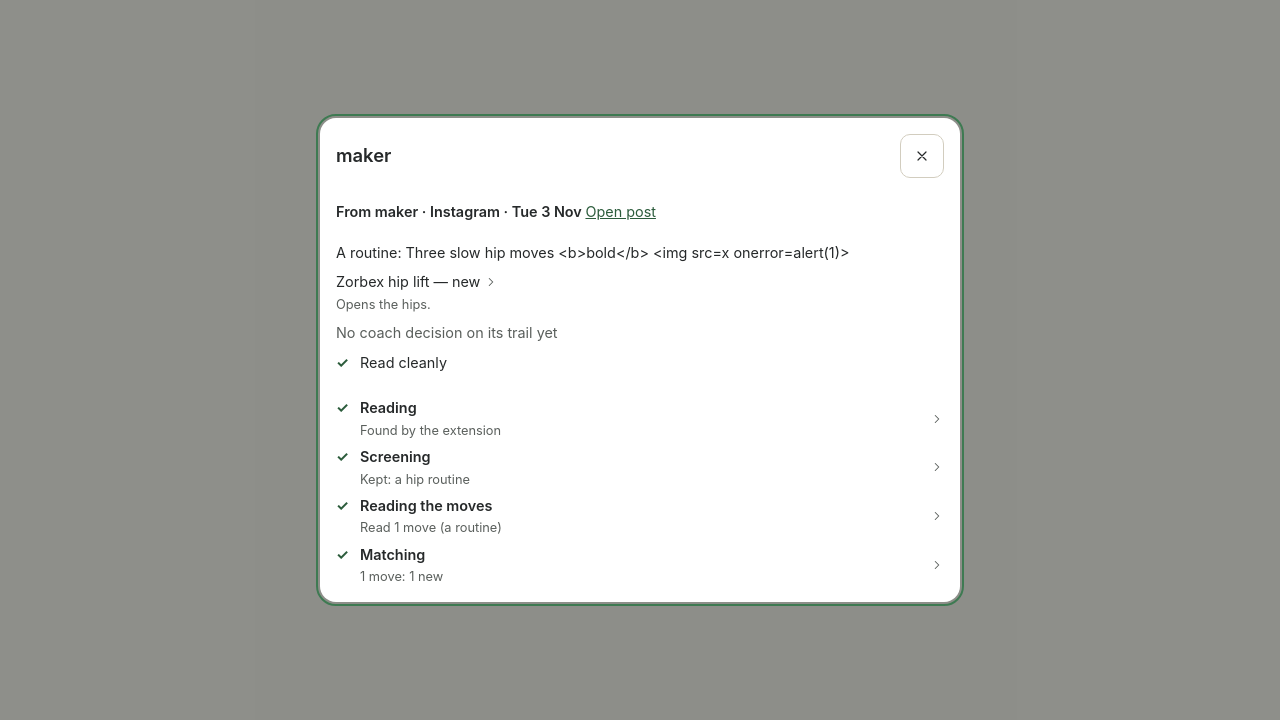
Test: the trail sheet › a move's account line opens that move's own section
Click the button "Zorbex hip lift — new" at (408, 282), box top-left (336, 271), bottom-right (944, 293)
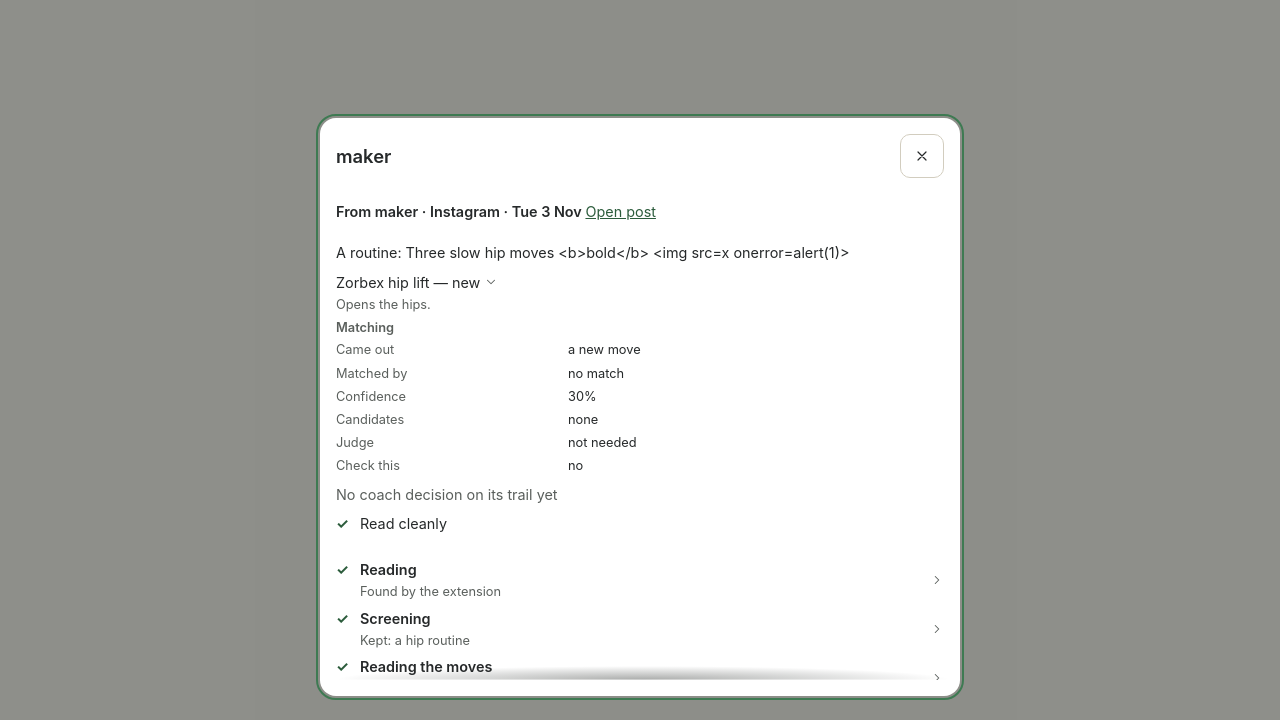
Now the button "Zorbex hip lift — new" is expanded, box top-left (336, 272), bottom-right (944, 293)
